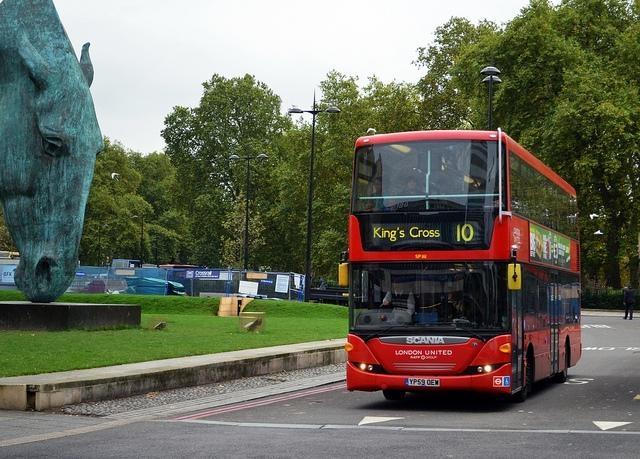bus: (343, 132, 587, 407)
